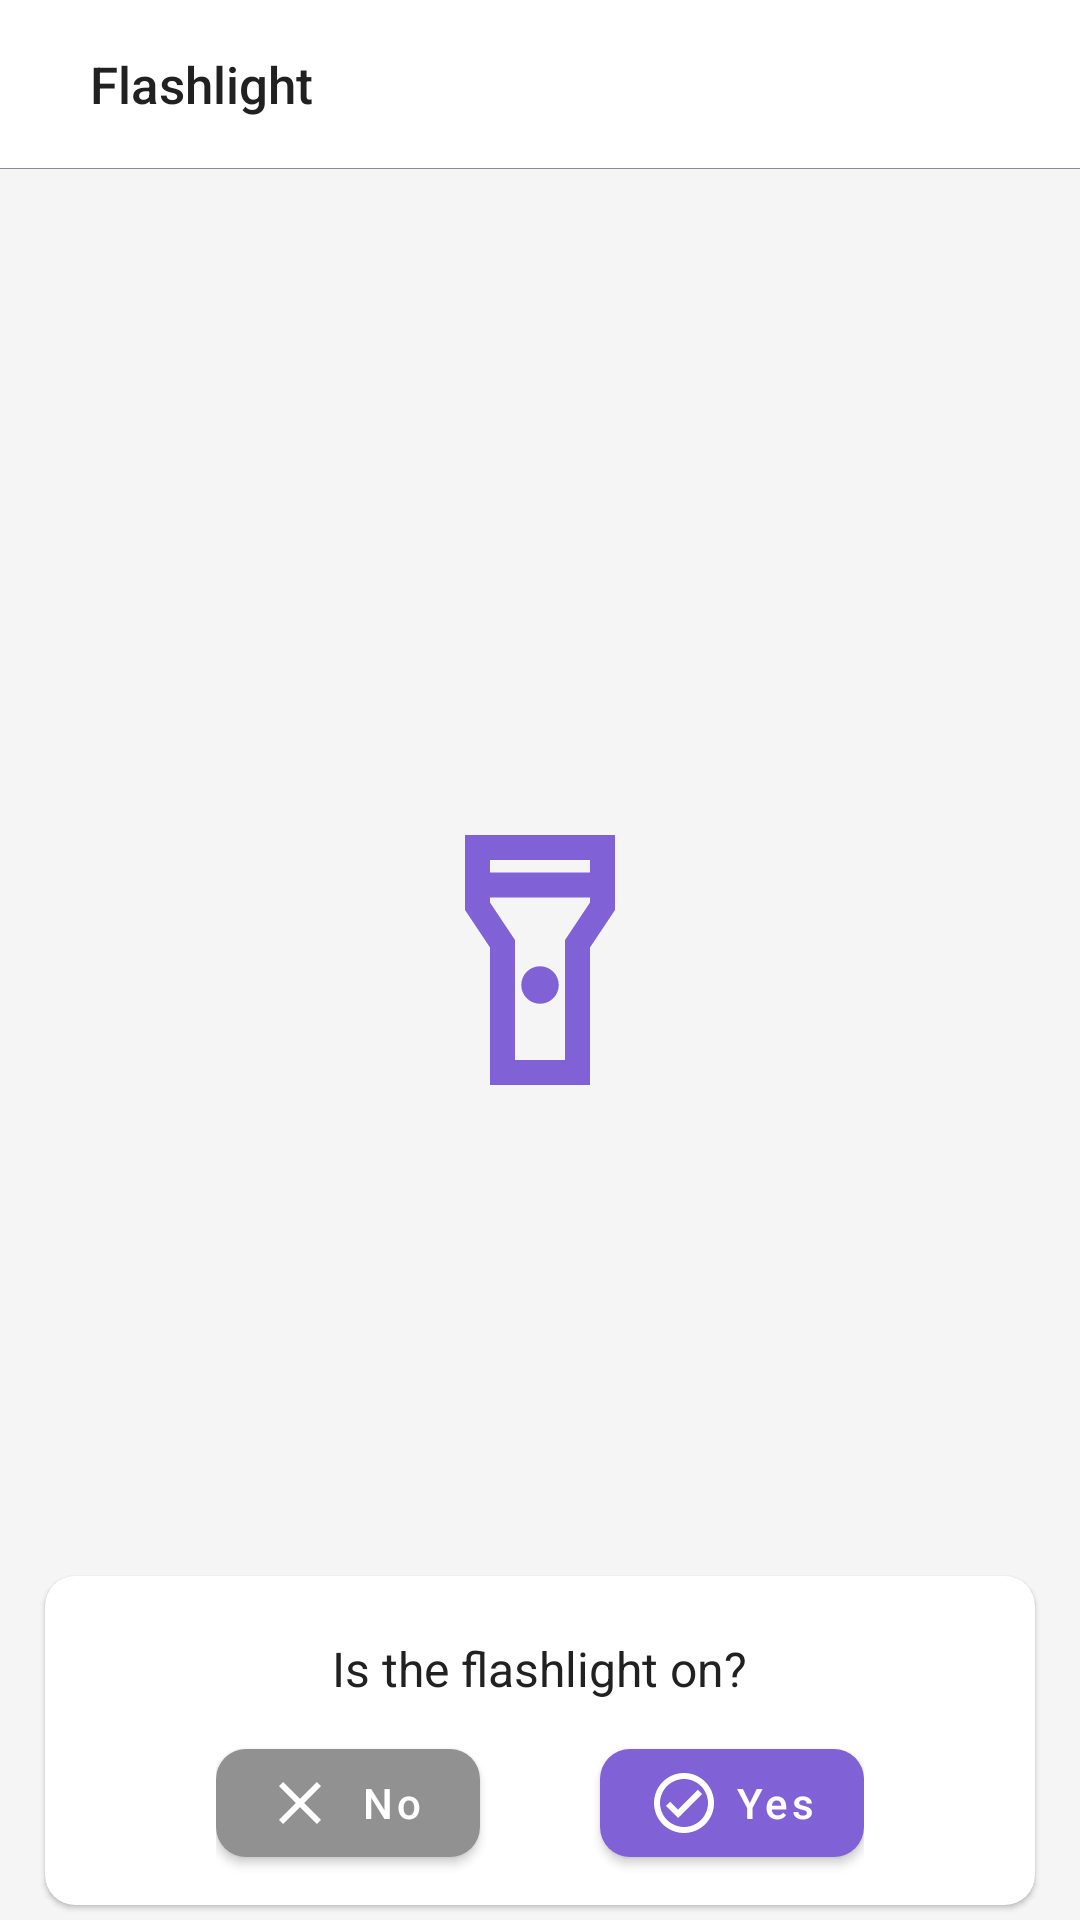

Icons on this 1080 x 1920 Android screen, each with the point to tap as [x,y]:
flashlight on: [540,960]
